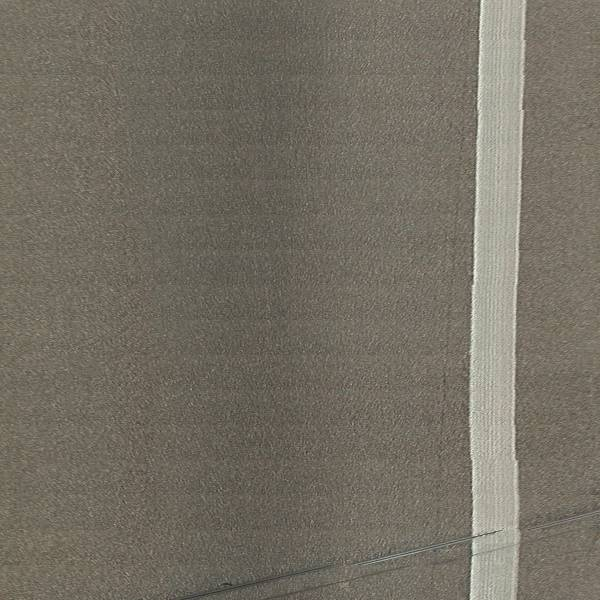road_damage: (234, 537, 473, 593)
